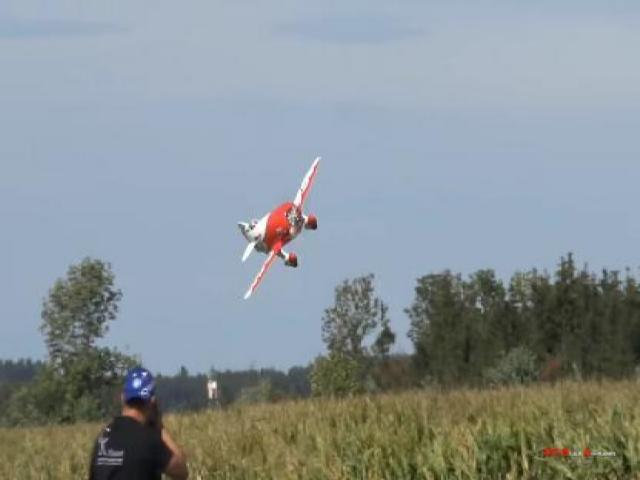uav: (232, 148, 326, 307)
